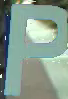Parking: (4, 2, 66, 98)
